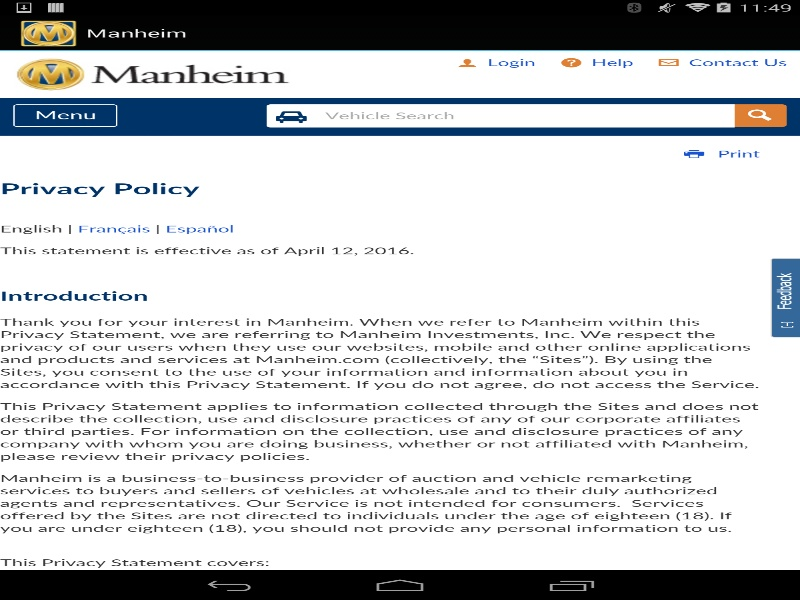Button: (13, 104, 117, 126), (733, 104, 786, 126)
Input: (314, 104, 736, 127)
